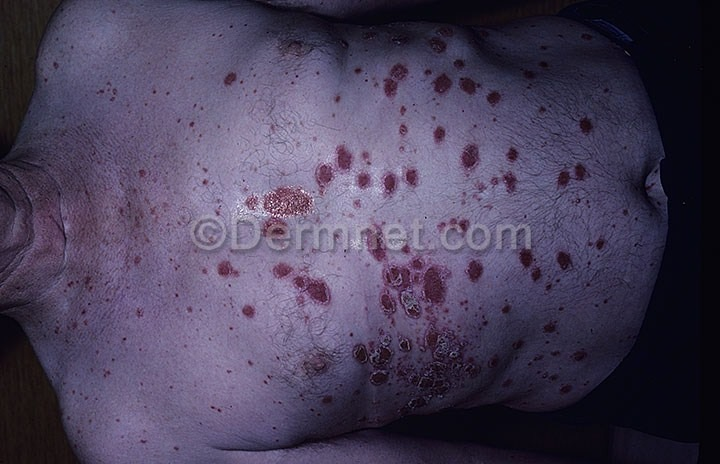Psoriasis: (231, 134, 425, 217), (377, 260, 482, 410), (382, 27, 510, 110), (269, 262, 349, 334), (516, 241, 590, 308), (458, 136, 531, 203), (556, 112, 605, 198)
